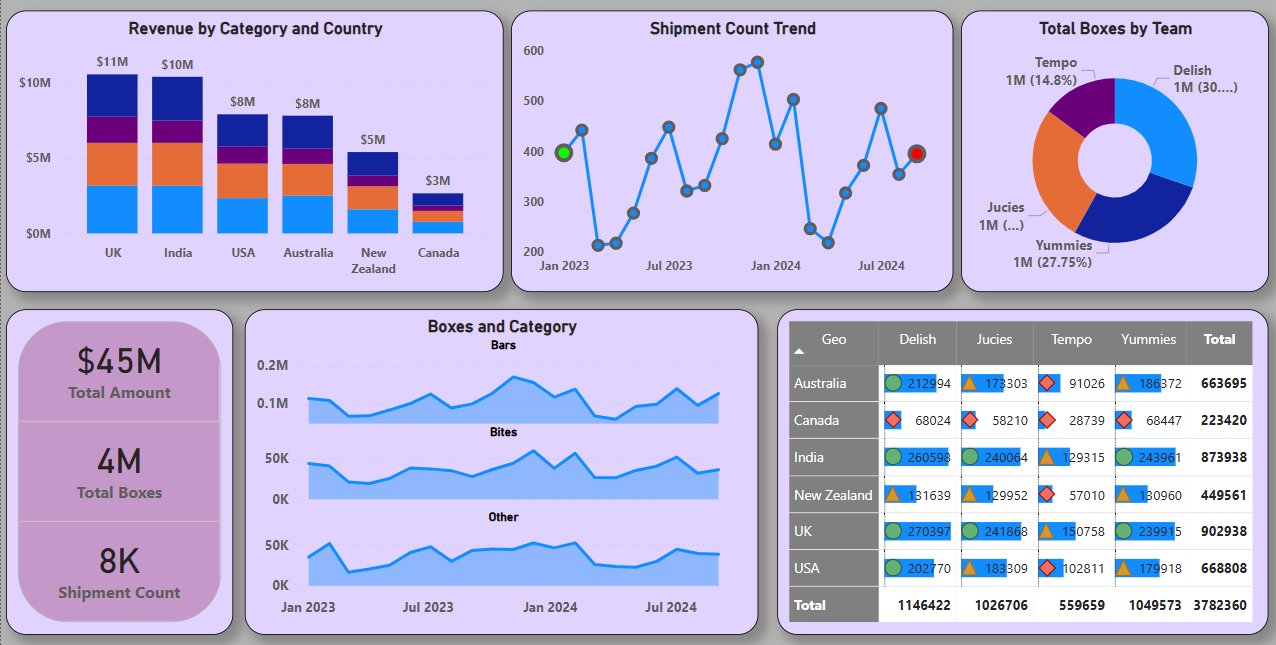

What the dashboard file says about the page in this screenshot:
{"tool":"powerbi","page":{"name":"Page 1","canvas":[1280,720],"ordinal":0},"visuals":[{"type":"columnChart","title":"Revenue by Category and Country","fields":{"Category":["locations.Geo"],"Series":["people.Team"],"Y":["shipments.Total Amount"]},"box":[4.9,33,497.7,281.3],"z":0},{"type":"lineChart","title":"Shipment Count Trend","fields":{"Category":["shipments.Start OM.Variation.Date Hierarchy.Year","shipments.Start OM.Variation.Date Hierarchy.Month"],"Y":["shipments.Shipment Count"]},"box":[509.9,33,442.7,281.3],"z":1000},{"type":"donutChart","fields":{"Y":["shipments.Total Boxes"],"Category":["people.Team"]},"box":[959.9,33,308.2,281.3],"z":2000},{"type":"cardVisual","fields":{"Data":["shipments.Total Amount","shipments.Total Boxes","shipments.Shipment Count"]},"box":[4.9,331.4,227.4,325.3],"z":3000},{"type":"stackedAreaChart","title":"Boxes and Category","fields":{"Y":["shipments.Total Boxes"],"Category":["shipments.Start OM.Variation.Date Hierarchy.Year","shipments.Start OM.Variation.Date Hierarchy.Month"],"Rows":["products.Category"]},"box":[243.3,331.4,513.6,325.3],"z":4000},{"type":"pivotTable","fields":{"Values":["shipments.Total Boxes"],"Rows":["locations.Geo"],"Columns":["people.Team"]},"box":[776.5,331.4,491.6,325.3],"z":5000}]}

Visuals, with their boxes on the page's 1280x720 design canvas (x1, y1, x2, y2). These are canvas units, not pixel positions in the 1276x645 screenshot, which may show the page scaled, cropped or inside an application window:
"Revenue by Category and Country" columnChart: (left=5, top=33, right=503, bottom=314)
"Shipment Count Trend" lineChart: (left=510, top=33, right=953, bottom=314)
donutChart - shipments.Total Boxes x people.Team: (left=960, top=33, right=1268, bottom=314)
cardVisual - shipments.Total Amount x shipments.Total Boxes: (left=5, top=331, right=232, bottom=657)
"Boxes and Category" stackedAreaChart: (left=243, top=331, right=757, bottom=657)
pivotTable - shipments.Total Boxes x locations.Geo: (left=776, top=331, right=1268, bottom=657)
